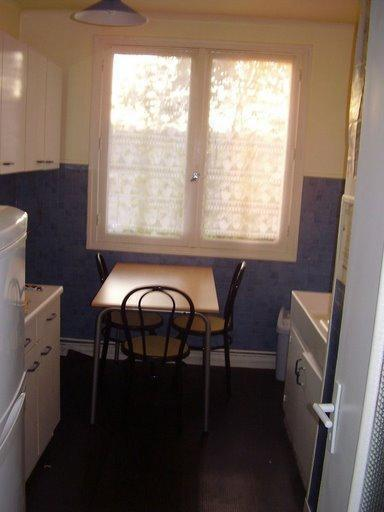Bote de Basura: (273, 309, 292, 383)
Electrodomestico: (4, 220, 25, 511)
Ventana: (102, 44, 290, 252)
